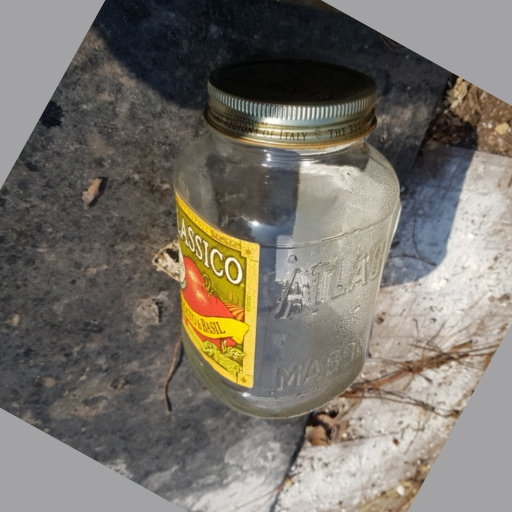Glass_5: (174, 48, 403, 422)
